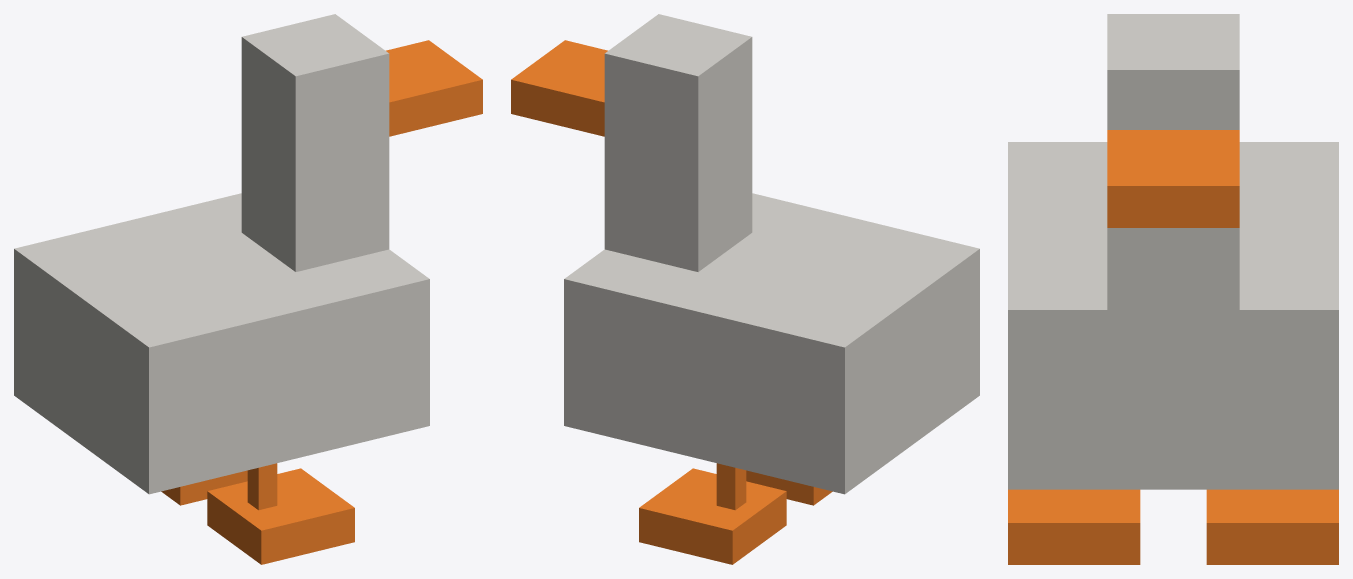
Rendered from duck.gltf.
The picture shows the model from 3 angles, left to right: view 1: azimuth 30°, elevation 25°; view 2: azimuth 150°, elevation 25°; view 3: azimuth 270°, elevation 25°; orthographic projection. The views are drawn at different scales.
Visible parts, largest first — view 1: Duck; view 2: Duck; view 3: Duck.
Part boxes in pixels (x1,y1,x2,y2): Duck: (14, 14, 482, 564); Duck: (511, 14, 979, 564); Duck: (1008, 14, 1338, 564).
Bounding box in the file's own units: 0.8 × 0.9 × 0.5.
